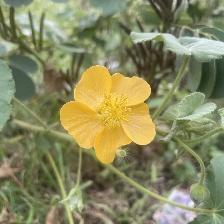indian mallow: (58, 66, 159, 167)
